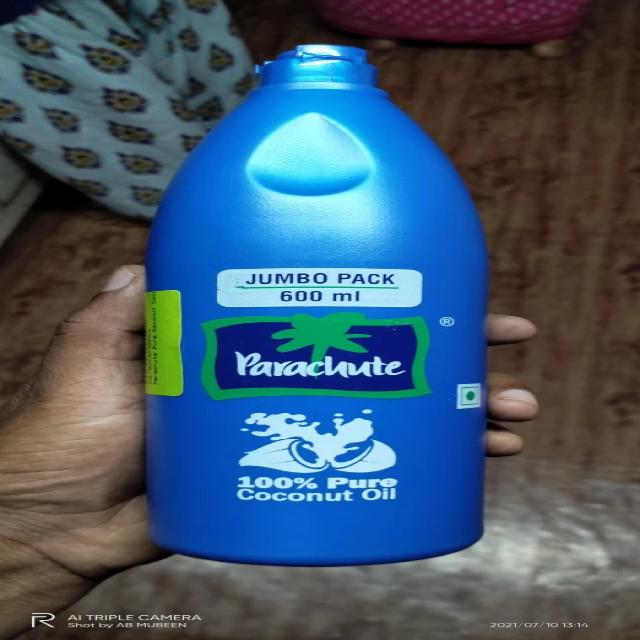parachute_oil: (135, 32, 498, 568)
